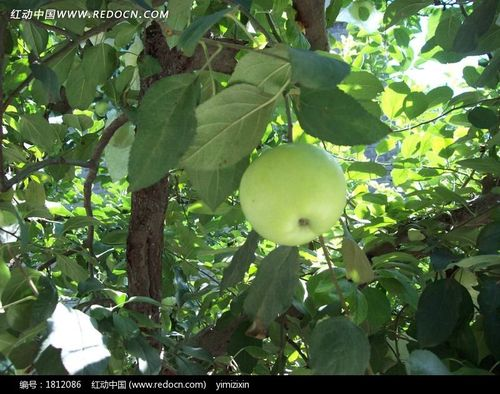unripe: (228, 142, 359, 249)
